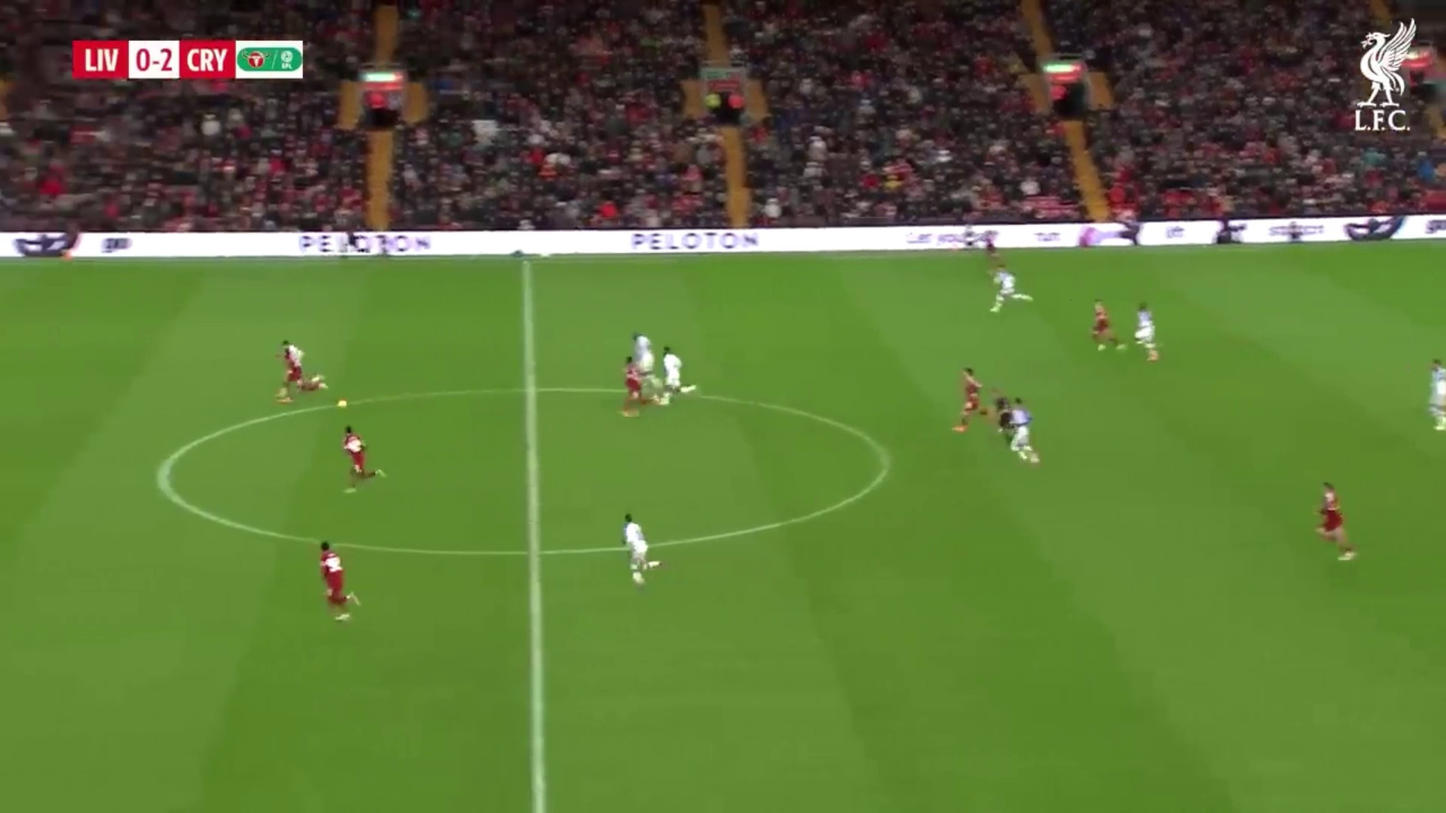player: (1314, 481, 1357, 562), (277, 341, 330, 401), (317, 540, 356, 618), (620, 331, 652, 414), (952, 367, 989, 435), (999, 401, 1038, 464), (341, 426, 379, 486), (621, 516, 652, 584), (278, 341, 312, 400), (653, 348, 685, 404), (619, 360, 651, 415), (1132, 302, 1160, 363), (659, 344, 688, 402), (341, 425, 369, 484), (990, 266, 1018, 312), (1428, 358, 1445, 431), (1091, 302, 1115, 350), (660, 348, 683, 395)
